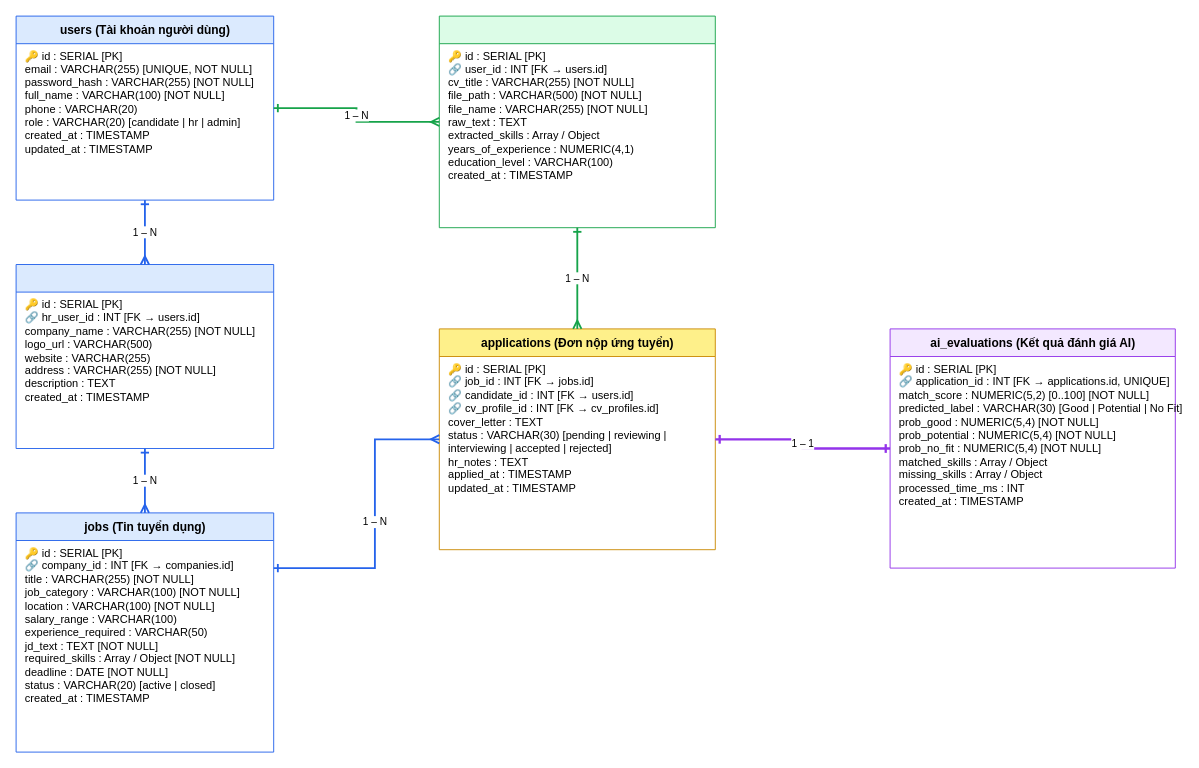
This 1199x768 diagram has some shape labels left out. The box of each missing label's shape, as (x1, y1, x2, y2) in pixels:
companies (Thông tin công ty): (15, 264, 274, 448)
cv_profiles (Hồ sơ CV ứng viên): (438, 15, 715, 228)
